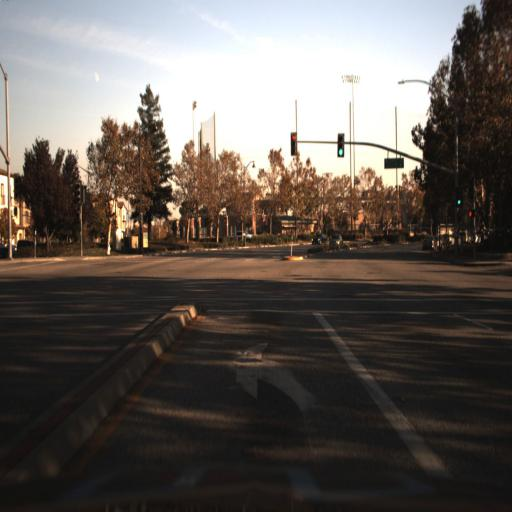car: (227, 227, 252, 244), (326, 233, 342, 251), (310, 232, 321, 248)
trafficLight-Green: (336, 131, 345, 157), (457, 187, 467, 209), (334, 144, 343, 166), (454, 194, 463, 212)
trafficLight-Red: (465, 203, 473, 221)
trafficLight-RedLeft: (289, 129, 301, 160), (288, 130, 295, 146)
